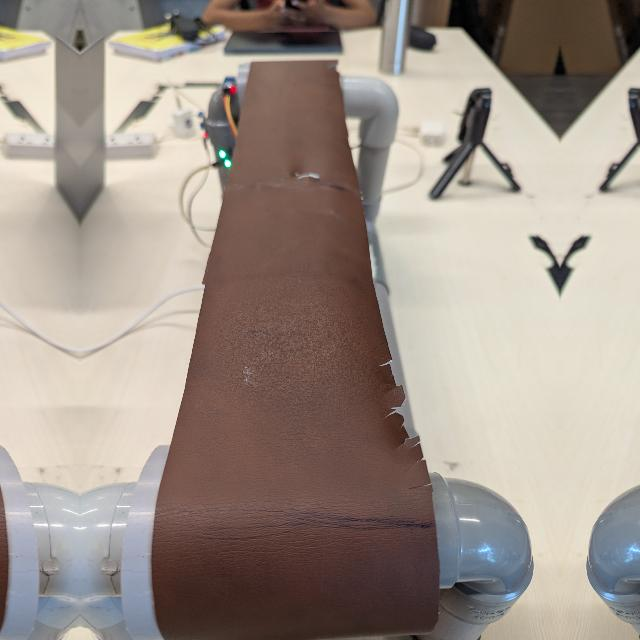edge_damage: (372, 346, 437, 495)
joint_damage: (275, 148, 329, 189)
